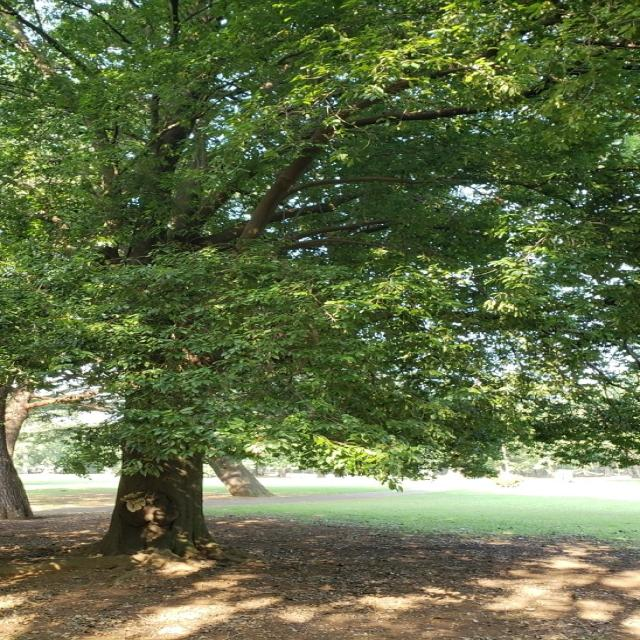zelkova: (0, 0, 640, 560)
